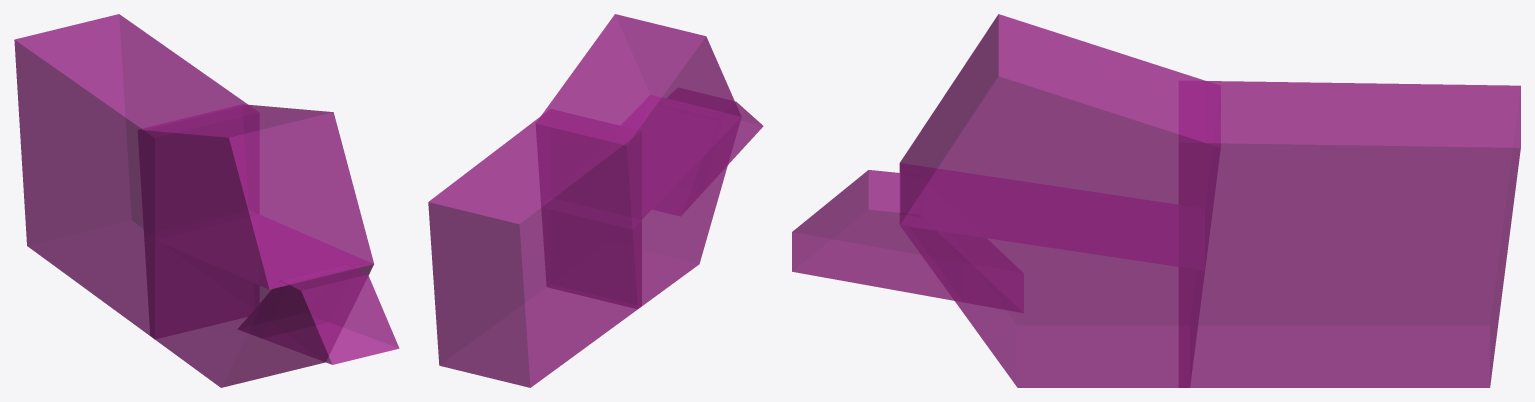
File: SM_Veh_Moped_01_Collision.fbx
3 views of the same model, side by side, from view 1: azimuth 30°, elevation 25°; view 2: azimuth 150°, elevation 25°; view 3: azimuth 270°, elevation 25° (orthographic). The views are drawn at different scales.
Visible parts, largest first — view 1: SM_Veh_Moped_01_Collision; view 2: SM_Veh_Moped_01_Collision; view 3: SM_Veh_Moped_01_Collision.
Boxes of the visible parts, left/top/right/bottom form: SM_Veh_Moped_01_Collision: left=14, top=14, right=399, bottom=387; SM_Veh_Moped_01_Collision: left=428, top=14, right=763, bottom=387; SM_Veh_Moped_01_Collision: left=792, top=14, right=1520, bottom=387.
Bounding box in the file's own units: 38.64 × 90.23 × 191.
